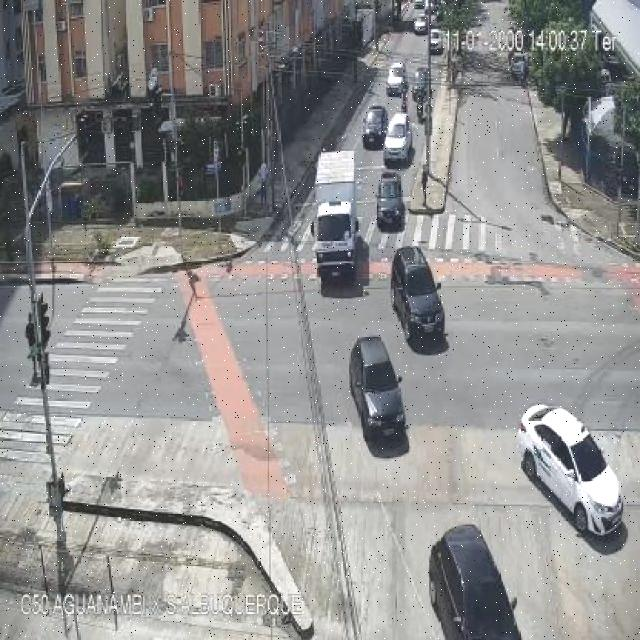Car: (512, 405, 628, 544), (428, 524, 524, 638), (348, 339, 406, 449), (390, 246, 446, 343), (376, 172, 405, 230), (383, 113, 412, 165), (362, 105, 388, 145), (386, 63, 406, 96), (412, 68, 430, 96), (429, 29, 443, 53), (413, 16, 428, 34)
Truck: (312, 150, 358, 280)
